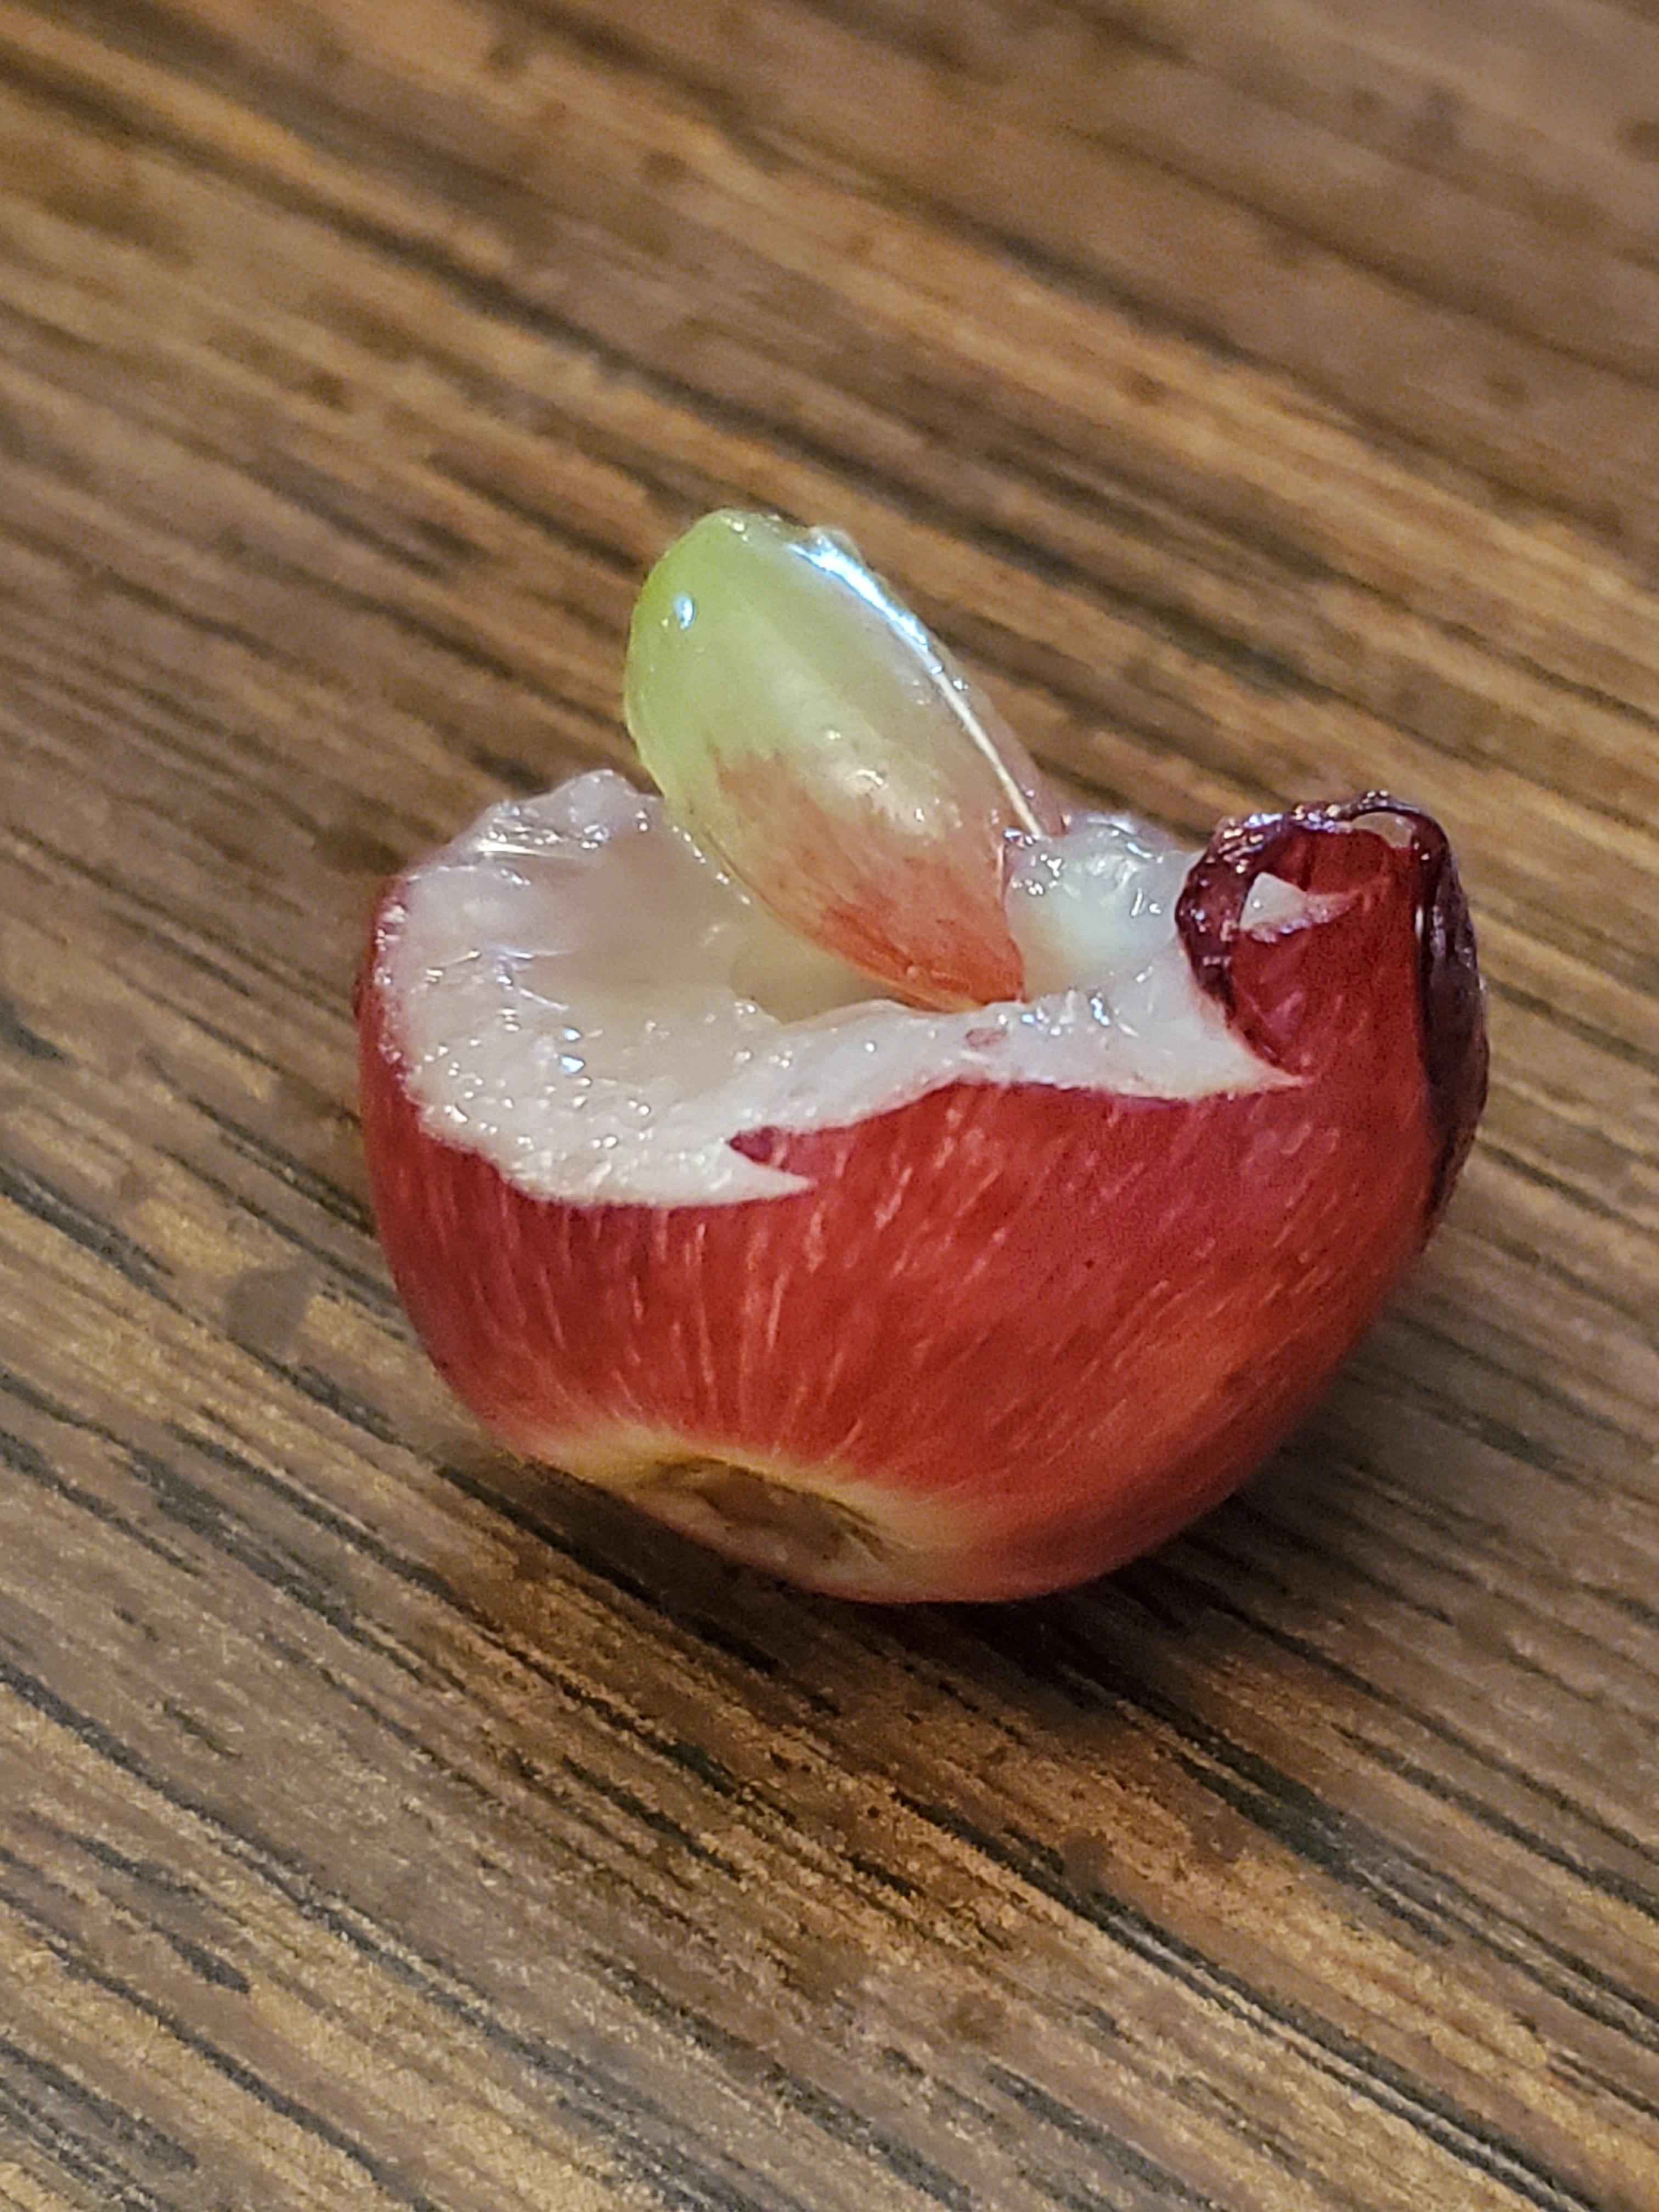grapes: (340, 456, 1504, 1752)
